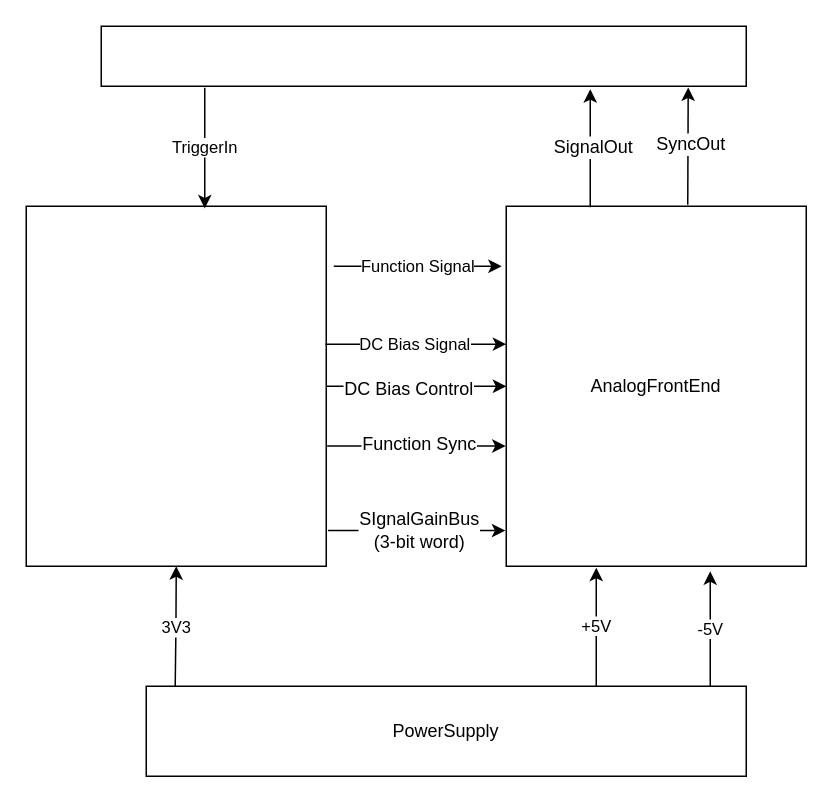
Image size: 833x803. Some labels were removed from this diagram. The centre of each missing label's shape, as x and y in pixels:
Microcontroller: (175,385)
Signal I/O Connectors: (423,55)
